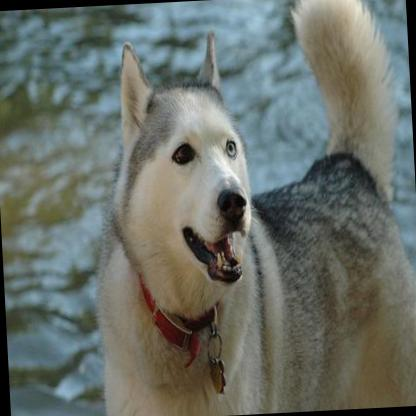malamute: (79, 0, 416, 416)
